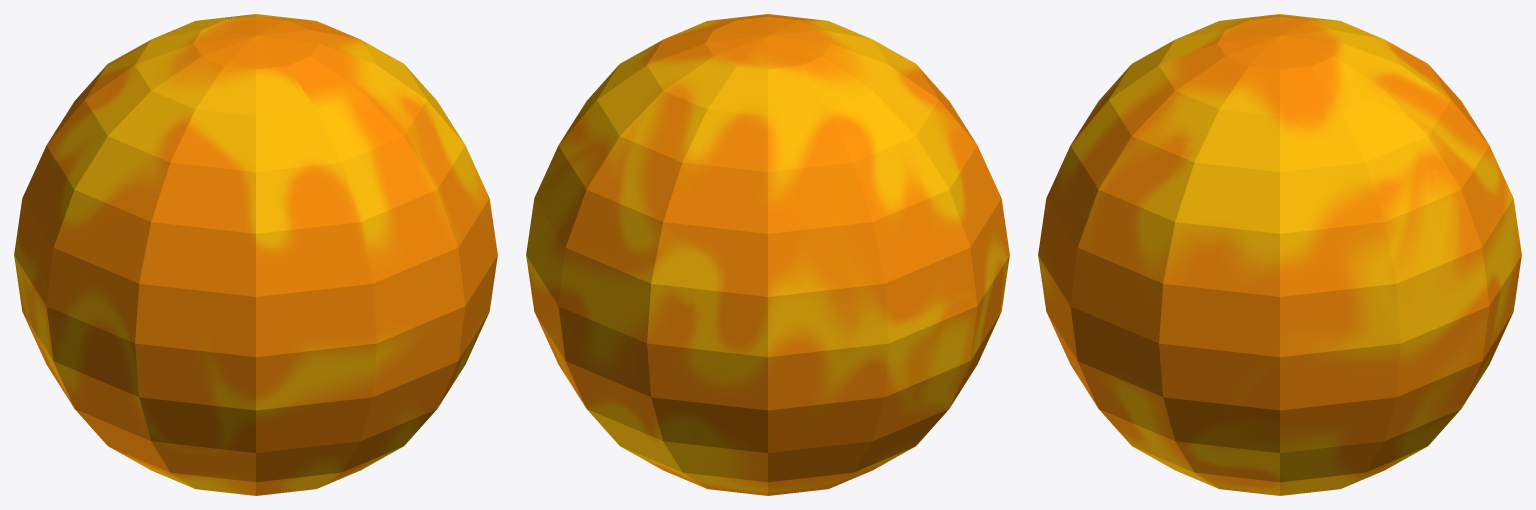
The model's file is Sun.dae.
3 views of the same model, side by side, from view 1: azimuth 30°, elevation 25°; view 2: azimuth 150°, elevation 25°; view 3: azimuth 270°, elevation 25° (orthographic).
Visible parts, largest first — view 1: Sphere; view 2: Sphere; view 3: Sphere.
Part boxes in pixels (left/top/right/bottom): Sphere: left=14, top=14, right=497, bottom=495; Sphere: left=526, top=14, right=1009, bottom=495; Sphere: left=1038, top=14, right=1521, bottom=495.
Size of the model in its own units: 2 by 2 by 2.
Materials: 1 (1 with a texture image).
